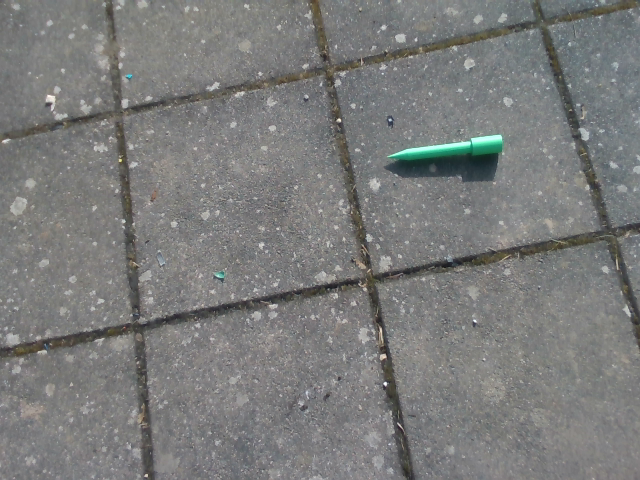Probe: (378, 128, 509, 167)
